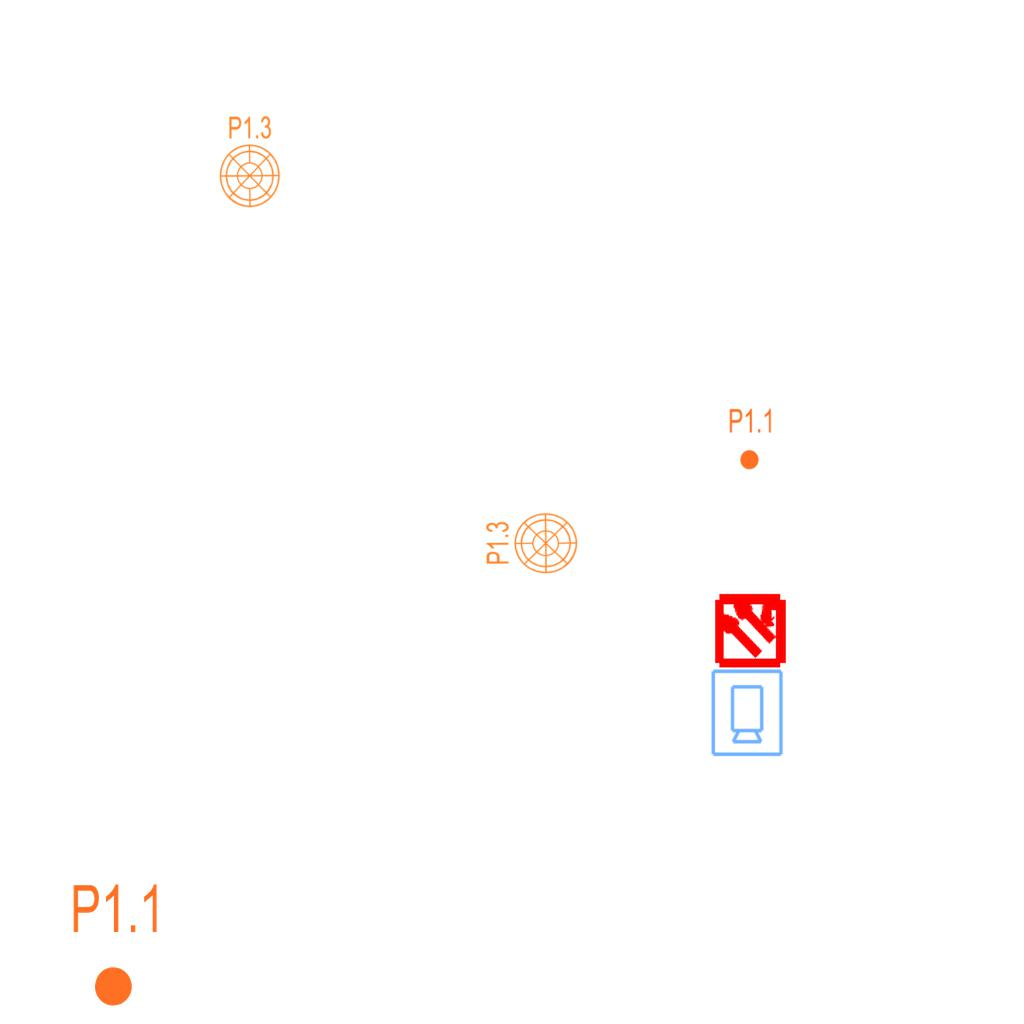Aufbaurundleuchte_LED_Treppenhaus: (477, 506, 579, 575), (218, 107, 287, 209)
Downlight_LED_Einbauleuchten_Flur_2: (70, 881, 163, 1009), (728, 407, 774, 471)
KFO_Kamera_mit_Festobjektiv: (708, 667, 785, 758)
OT_Multisensormelder_(Kombination_RMO_WMD): (694, 572, 807, 685)
